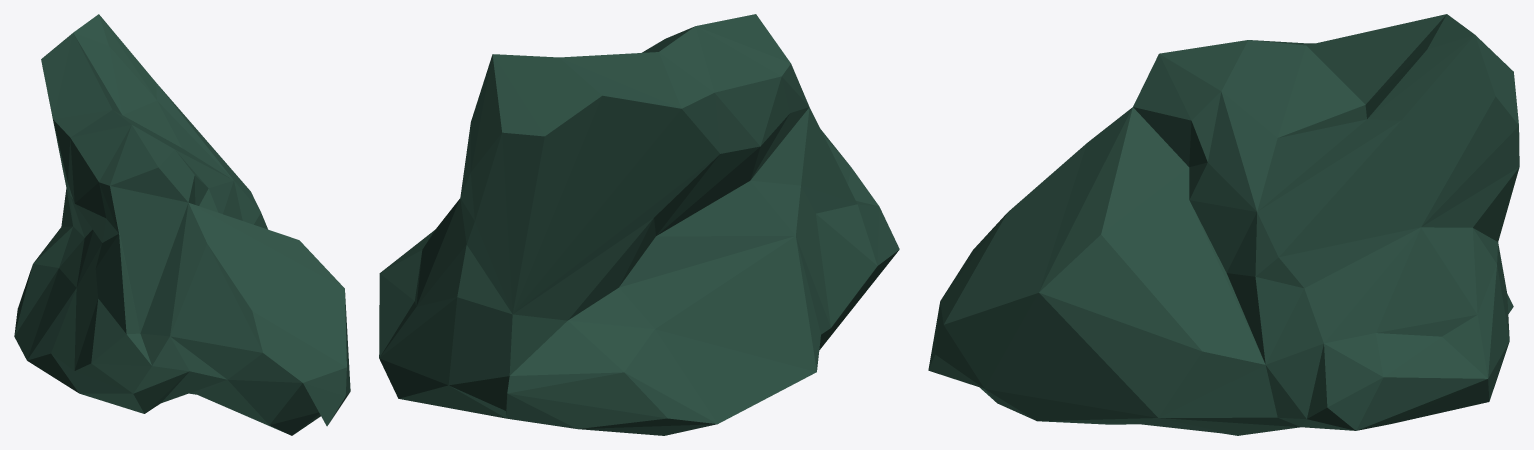
The model's file is SM_large_rock_15.fbx.
The picture shows the model from 3 angles, left to right: view 1: azimuth 30°, elevation 25°; view 2: azimuth 150°, elevation 25°; view 3: azimuth 270°, elevation 25°; orthographic projection. The views are drawn at different scales.
Visible parts, largest first — view 1: large_rock_15; view 2: large_rock_15; view 3: large_rock_15.
Part boxes in pixels (bbox=[...]): large_rock_15: bbox=[14, 14, 350, 435]; large_rock_15: bbox=[379, 14, 899, 435]; large_rock_15: bbox=[928, 14, 1519, 435].
Size of the model in its own units: 54.39 by 54.55 by 78.21.
